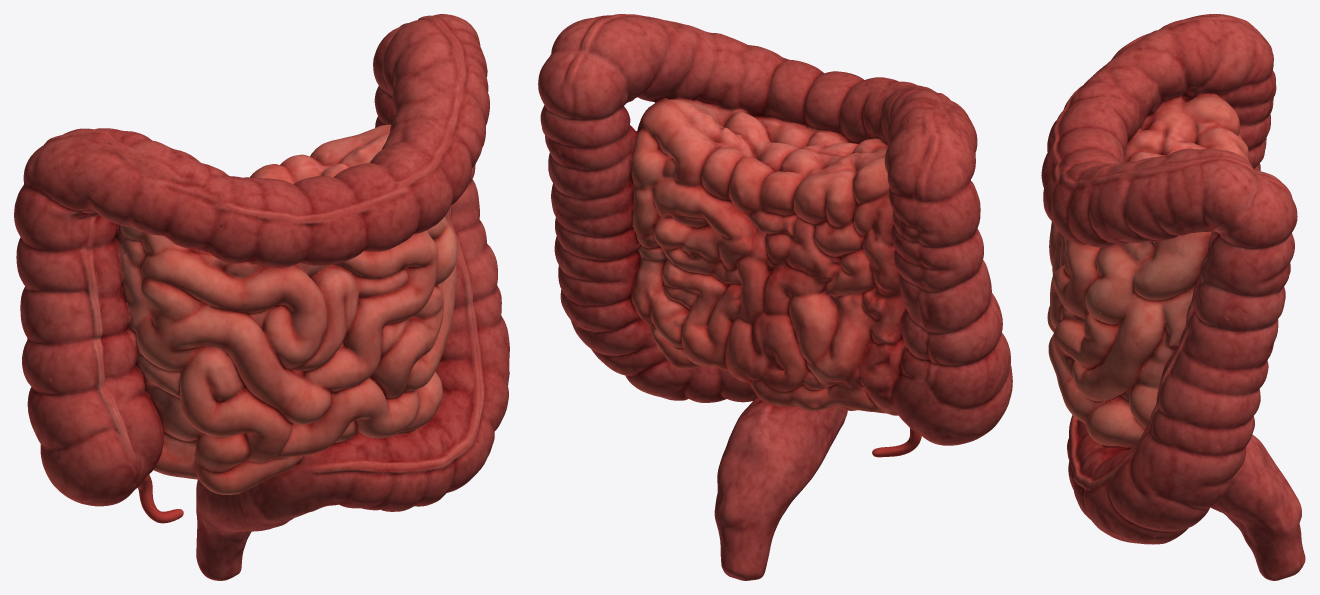
The model's file is intestines.glb.
3 views of the same model, side by side, from view 1: azimuth 30°, elevation 25°; view 2: azimuth 150°, elevation 25°; view 3: azimuth 270°, elevation 25° (orthographic). The views are drawn at different scales.
Parts seen in each view (by area): view 1: world.001; view 2: world.001; view 3: world.001.
Part boxes in pixels (x1=…): world.001: x1=14, y1=14, x2=509, y2=580; world.001: x1=538, y1=14, x2=1012, y2=580; world.001: x1=1041, y1=14, x2=1305, y2=580.
Bounding box in the file's own units: 0.9111 × 1 × 0.4726.
1 material, 1 textured.
